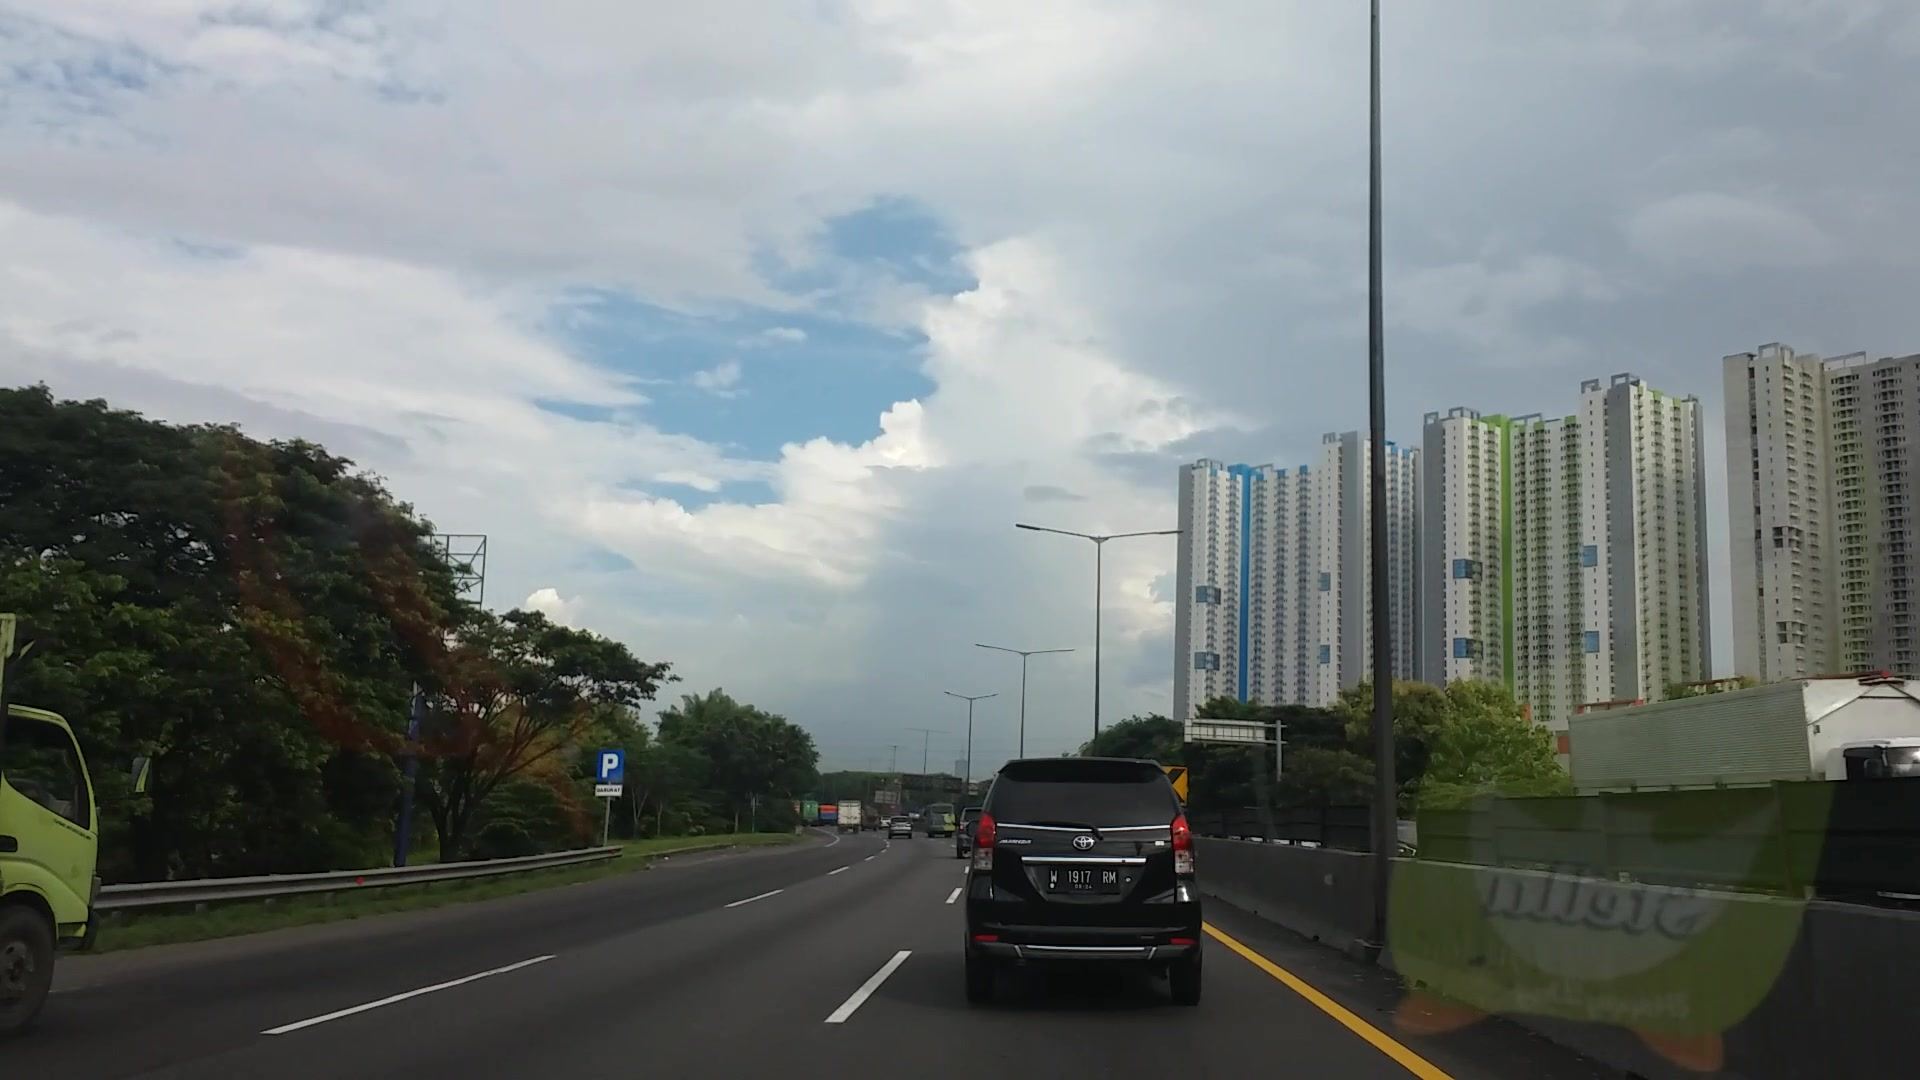plate_positive: (1046, 866, 1120, 893)
